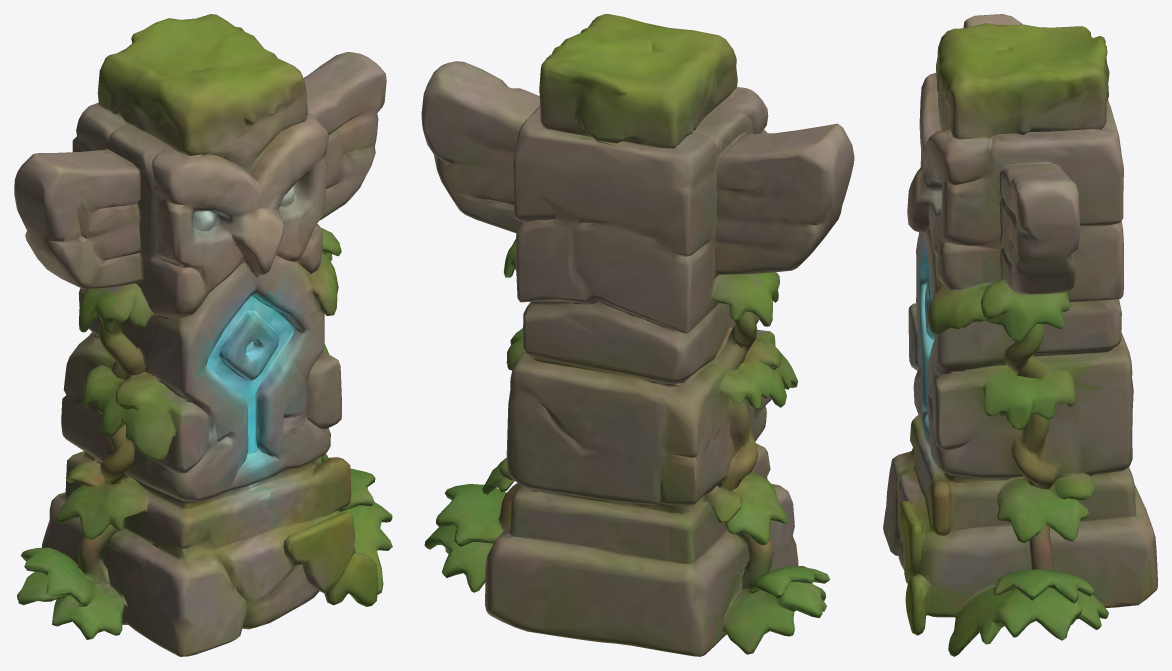
Rendered from totem_runico.glb.
The picture shows the model from 3 angles, left to right: view 1: azimuth 30°, elevation 25°; view 2: azimuth 150°, elevation 25°; view 3: azimuth 270°, elevation 25°; orthographic projection. The views are drawn at different scales.
Parts seen in each view (by area): view 1: totem_runico_malla; view 2: totem_runico_malla; view 3: totem_runico_malla.
Part boxes in pixels (left/top/right/bottom): totem_runico_malla: left=14, top=14, right=392, bottom=656; totem_runico_malla: left=421, top=14, right=854, bottom=656; totem_runico_malla: left=883, top=14, right=1157, bottom=656.
Size of the model in its own units: 0.1682 by 0.2367 by 0.1079.
Materials: 1 (1 with a texture image).
